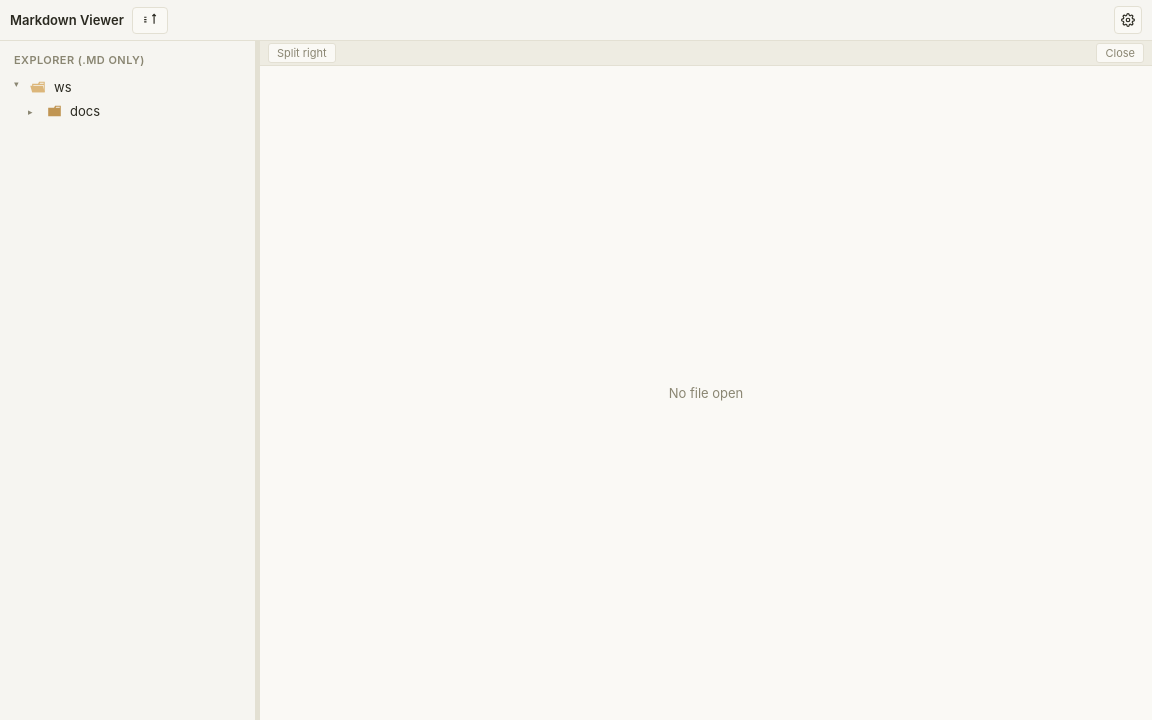
it: Sidebar tree persistence › nested folder reopens when parent is re-expanded
Expected: the text "docs" is shown, [70,103,100,119]
Click the text "docs" at [64, 111], box [28,103,100,119]
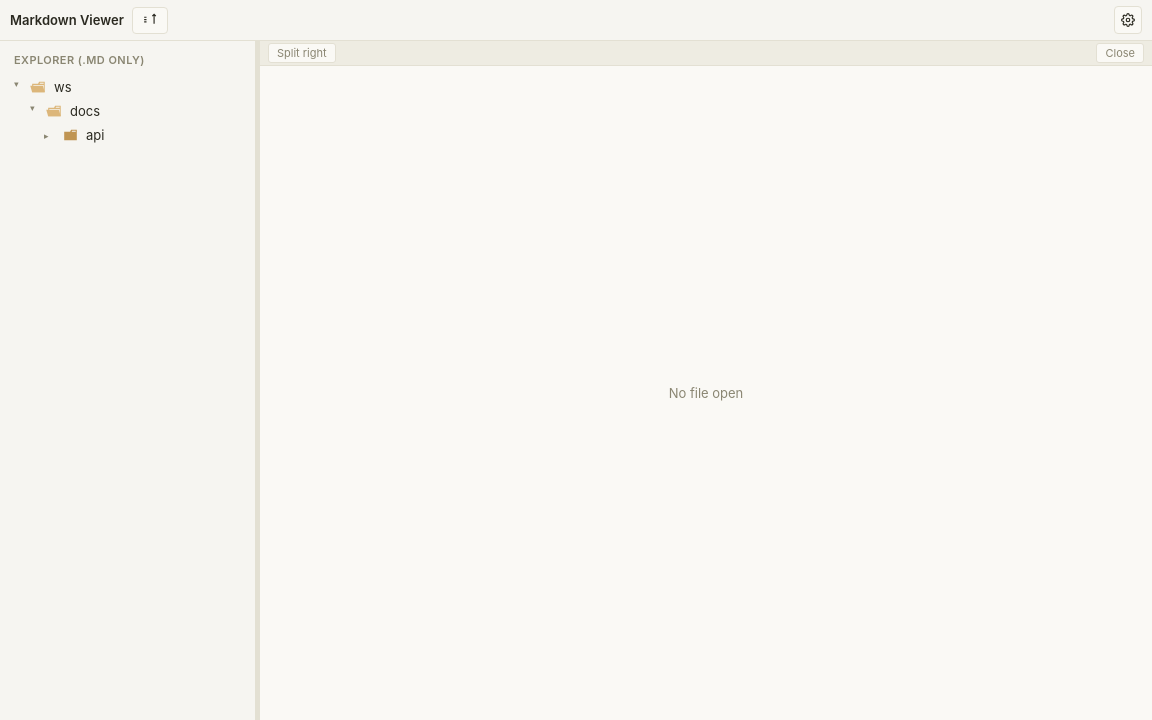
Expected: the text "api" is shown, [86,127,104,143]
Click the text "api" at [74, 135], box [44,127,104,143]
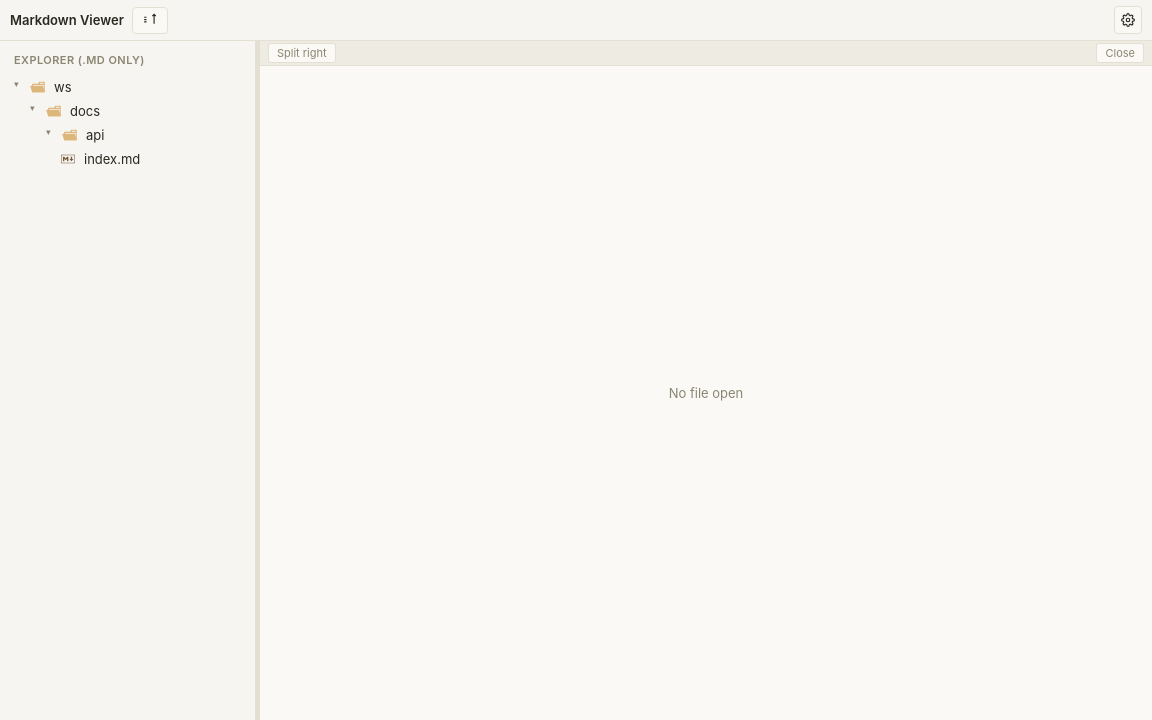
Expected: the text "index.md" is shown, [84,151,140,167]
Click the text "docs" at [64, 111], box [28,103,100,119]
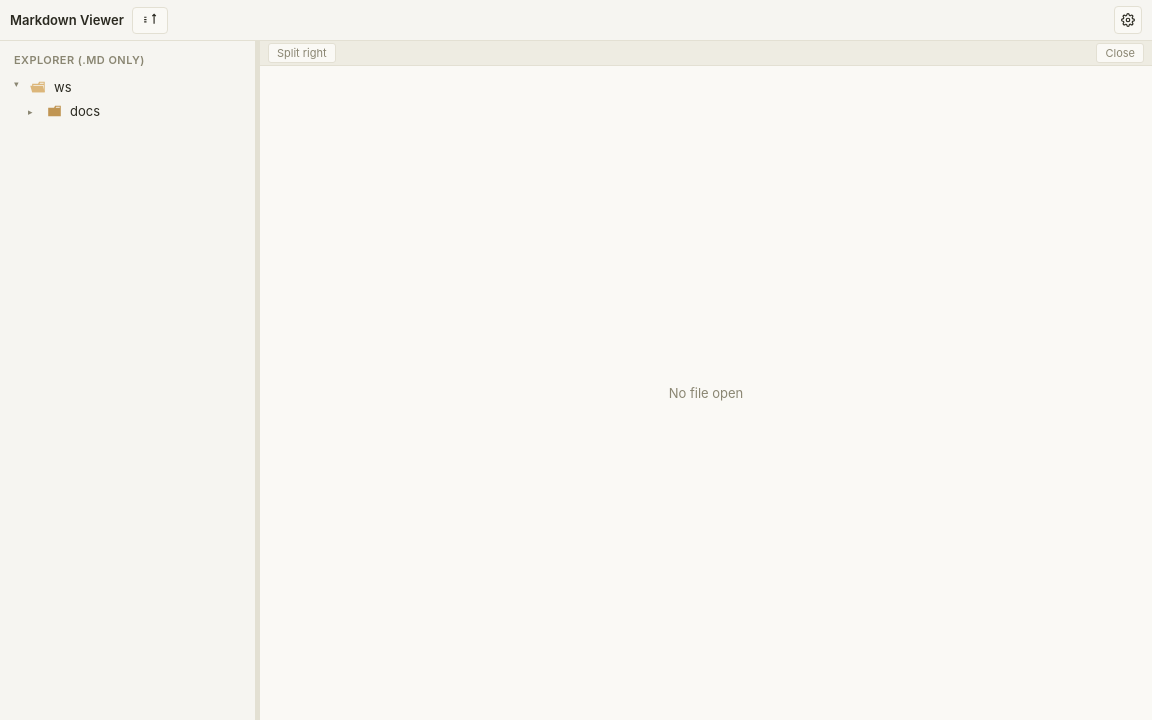
Expected: the text "index.md" is gone
Click the text "docs" at [64, 111], box [28,103,100,119]
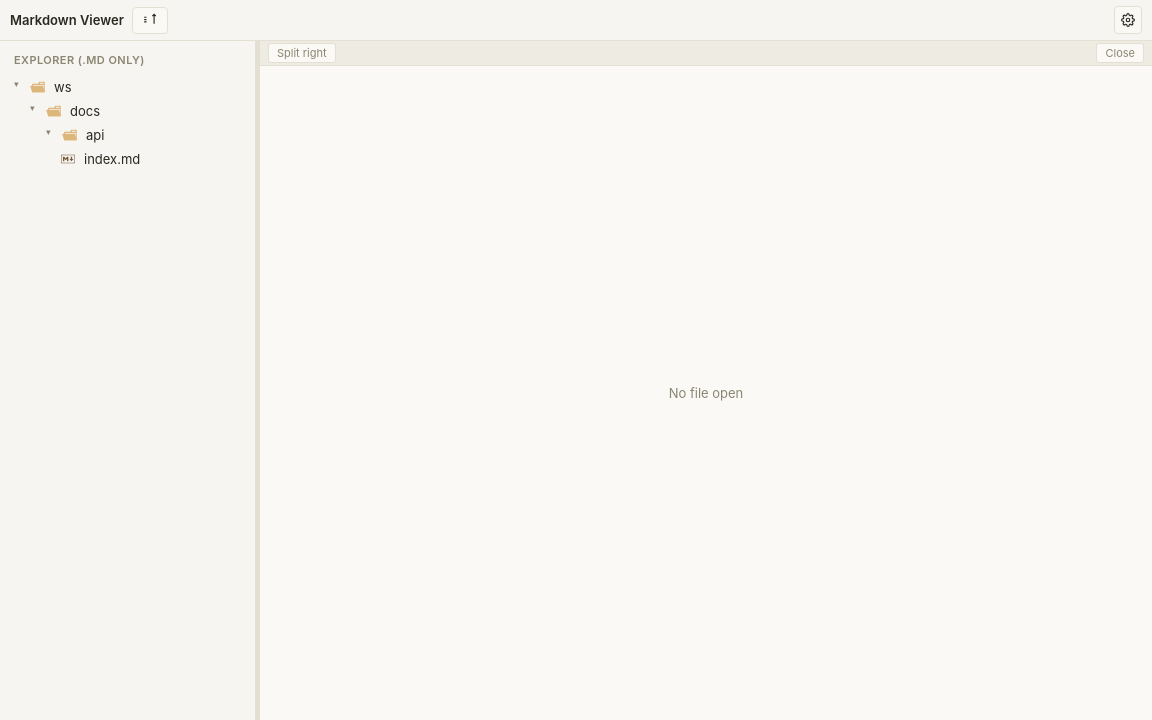
Expected: the text "index.md" is shown, [84,151,140,167]
